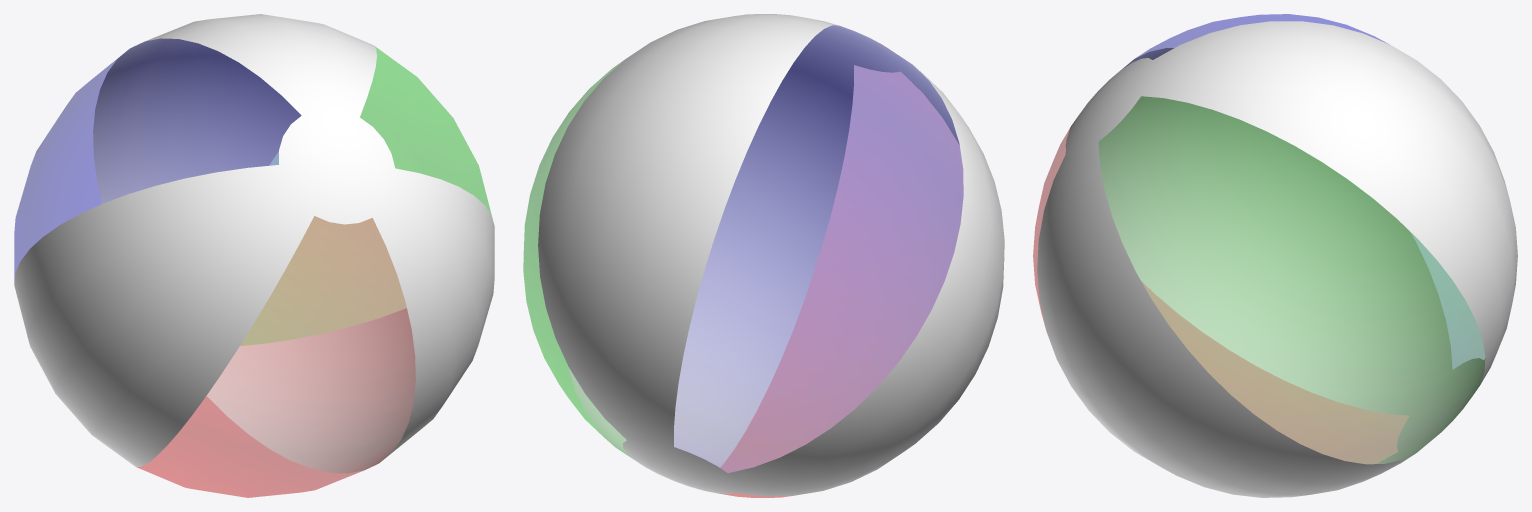
The model's file is BeachBall.dae.
3 views of the same model, side by side, from view 1: azimuth 30°, elevation 25°; view 2: azimuth 150°, elevation 25°; view 3: azimuth 270°, elevation 25° (orthographic).
Parts seen in each view (by area): view 1: BeachBall; view 2: BeachBall; view 3: BeachBall.
Boxes of the visible parts, x1=… form: BeachBall: x1=14, y1=14, x2=494, y2=497; BeachBall: x1=523, y1=14, x2=1004, y2=497; BeachBall: x1=1033, y1=14, x2=1517, y2=497.
Size of the model in its own units: 2 by 2 by 2.
